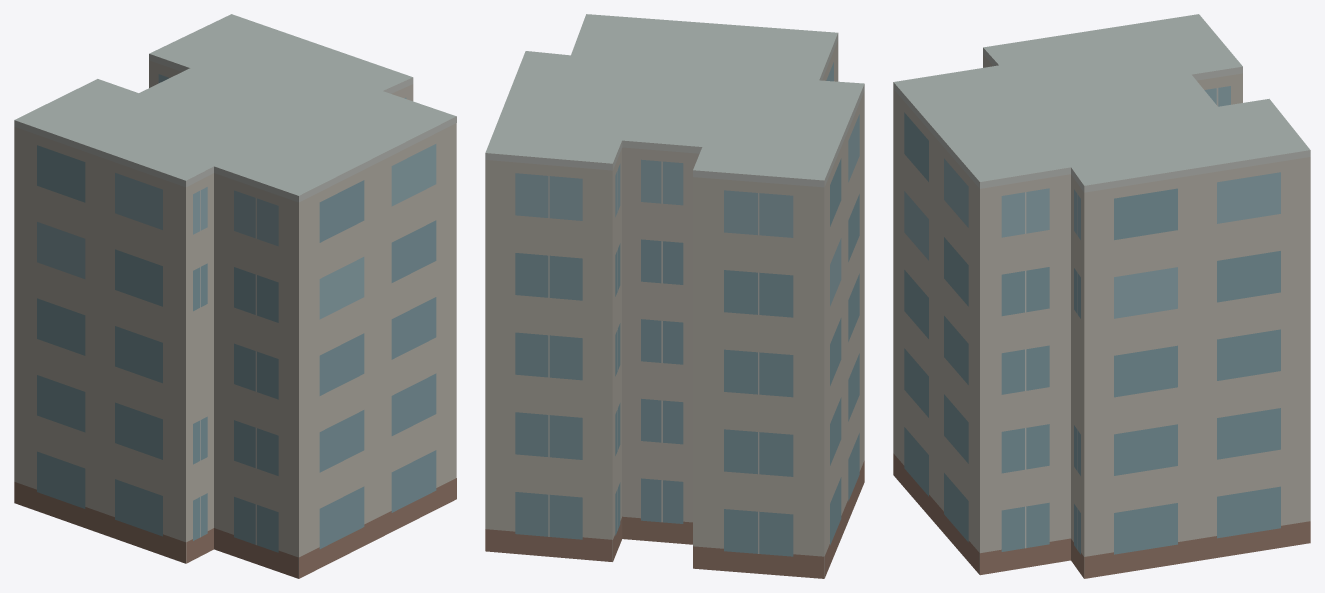
Rendered from survey-upis-32863988.glb.
3 renders of one model, left to right at view 1: azimuth 30°, elevation 25°; view 2: azimuth 150°, elevation 25°; view 3: azimuth 270°, elevation 25°, orthographic. The views are drawn at different scales.
Visible parts, largest first — view 1: survey-upis-32863988.tmp; view 2: survey-upis-32863988.tmp; view 3: survey-upis-32863988.tmp.
Part boxes in pixels (bbox=[...]): survey-upis-32863988.tmp: bbox=[14, 14, 456, 578]; survey-upis-32863988.tmp: bbox=[485, 14, 864, 578]; survey-upis-32863988.tmp: bbox=[893, 14, 1310, 578].
Bounding box in the file's own units: 13.23 × 14.1 × 13.58.
